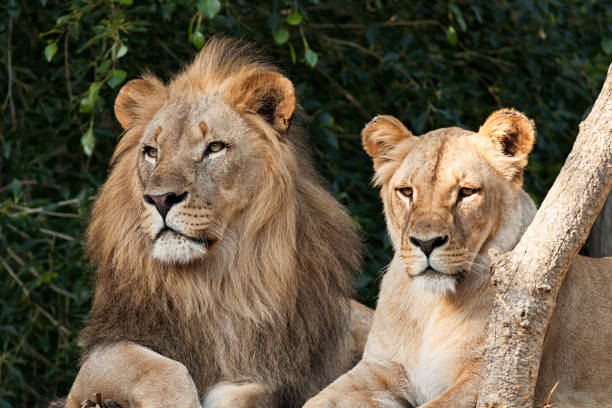lion: (84, 46, 369, 371)
